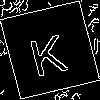K: (24, 25, 70, 78)
